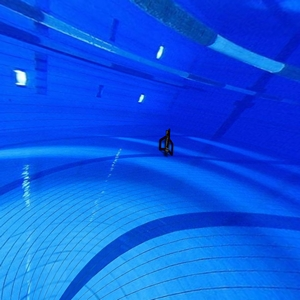submarine: (155, 125, 182, 163)
